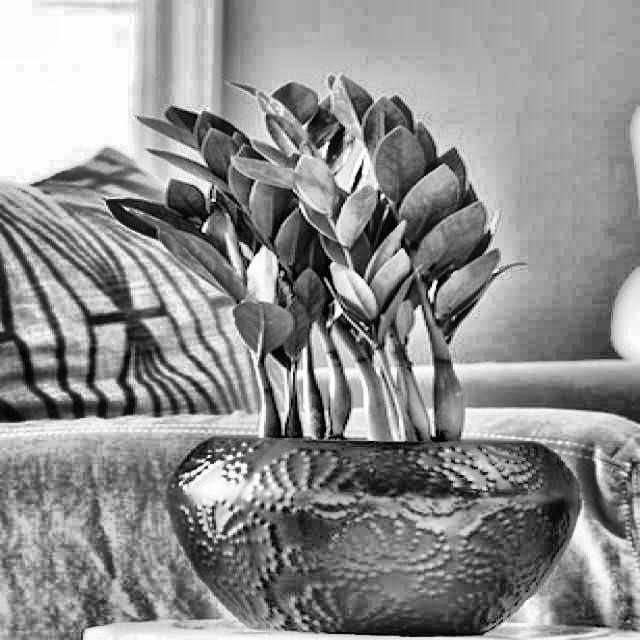plants: (118, 64, 586, 638)
